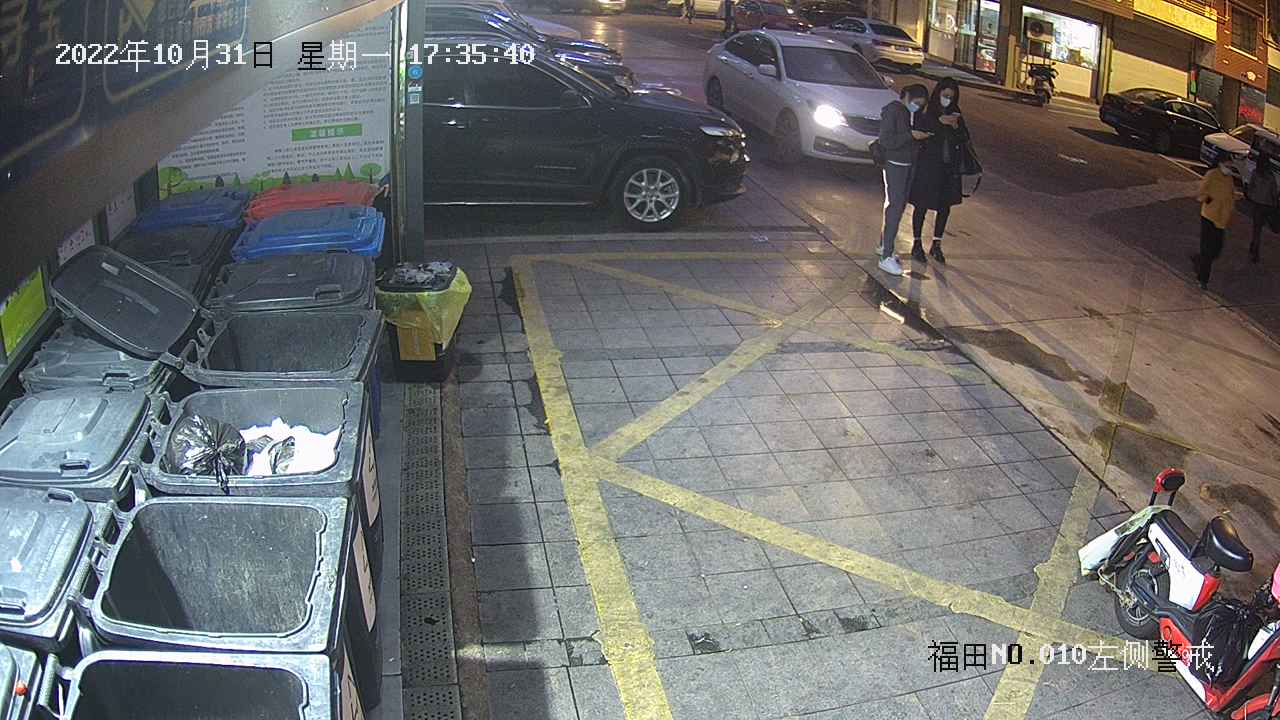person: (868, 76, 984, 276)
